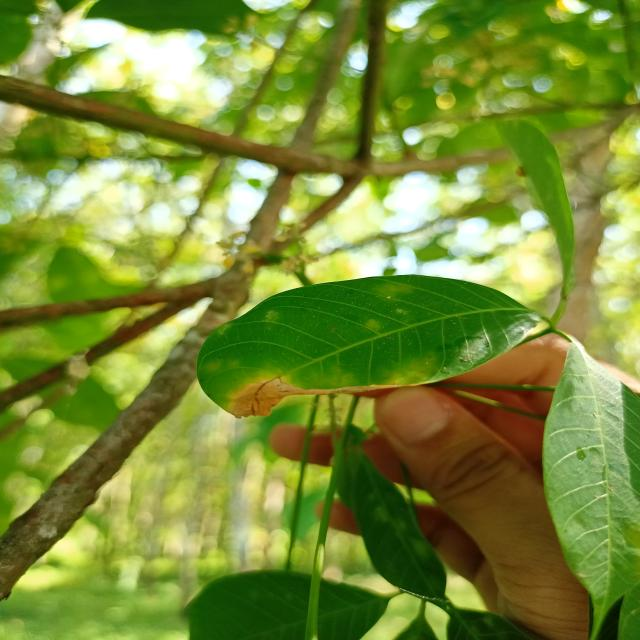Leaf-Blight: (226, 376, 418, 419)
